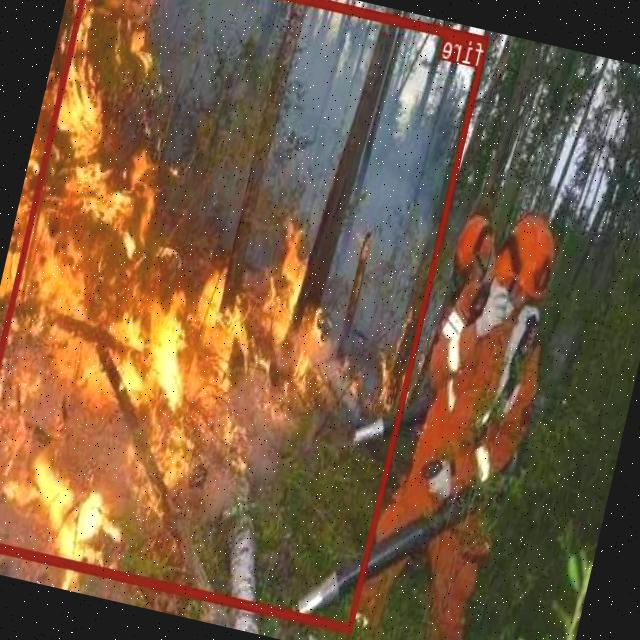fire: (0, 0, 489, 631)
